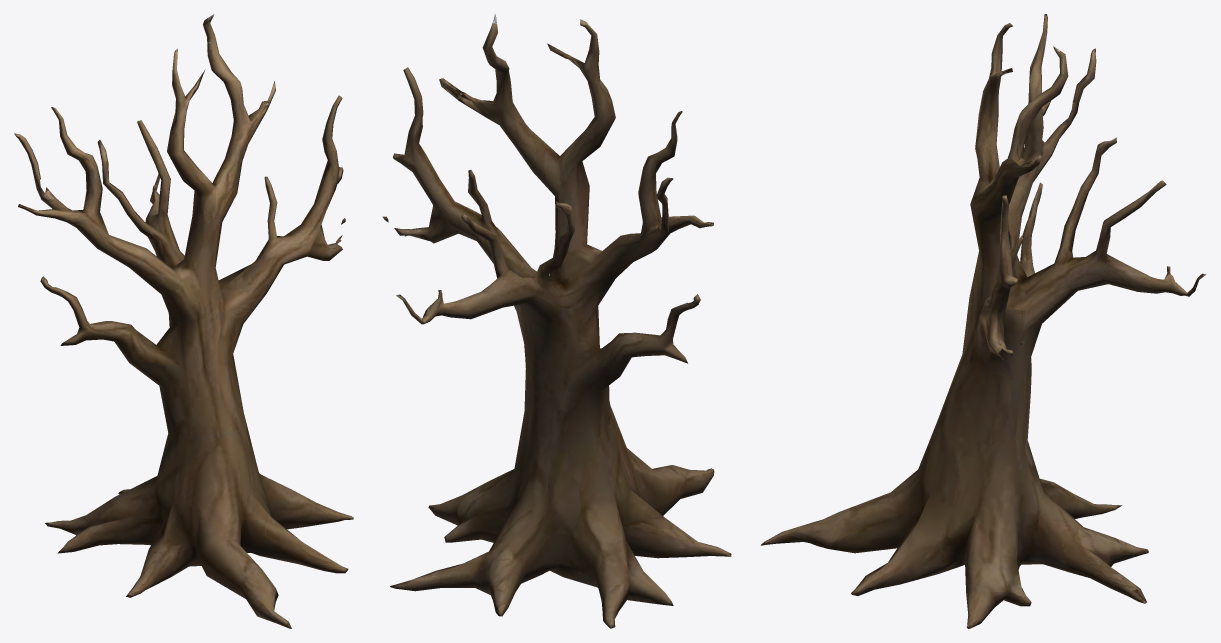
File: bare-tree.glb
The picture shows the model from 3 angles, left to right: view 1: azimuth 30°, elevation 25°; view 2: azimuth 150°, elevation 25°; view 3: azimuth 270°, elevation 25°; orthographic projection. The views are drawn at different scales.
Visible parts, largest first — view 1: Mesh_0; view 2: Mesh_0; view 3: Mesh_0.
Part boxes in pixels (<box>): Mesh_0: <box>14,14,353,628</box>; Mesh_0: <box>382,14,731,628</box>; Mesh_0: <box>761,14,1205,628</box>.
Size of the model in its own units: 3.94 by 6 by 4.56.
Materials: 1 (1 with a texture image).
